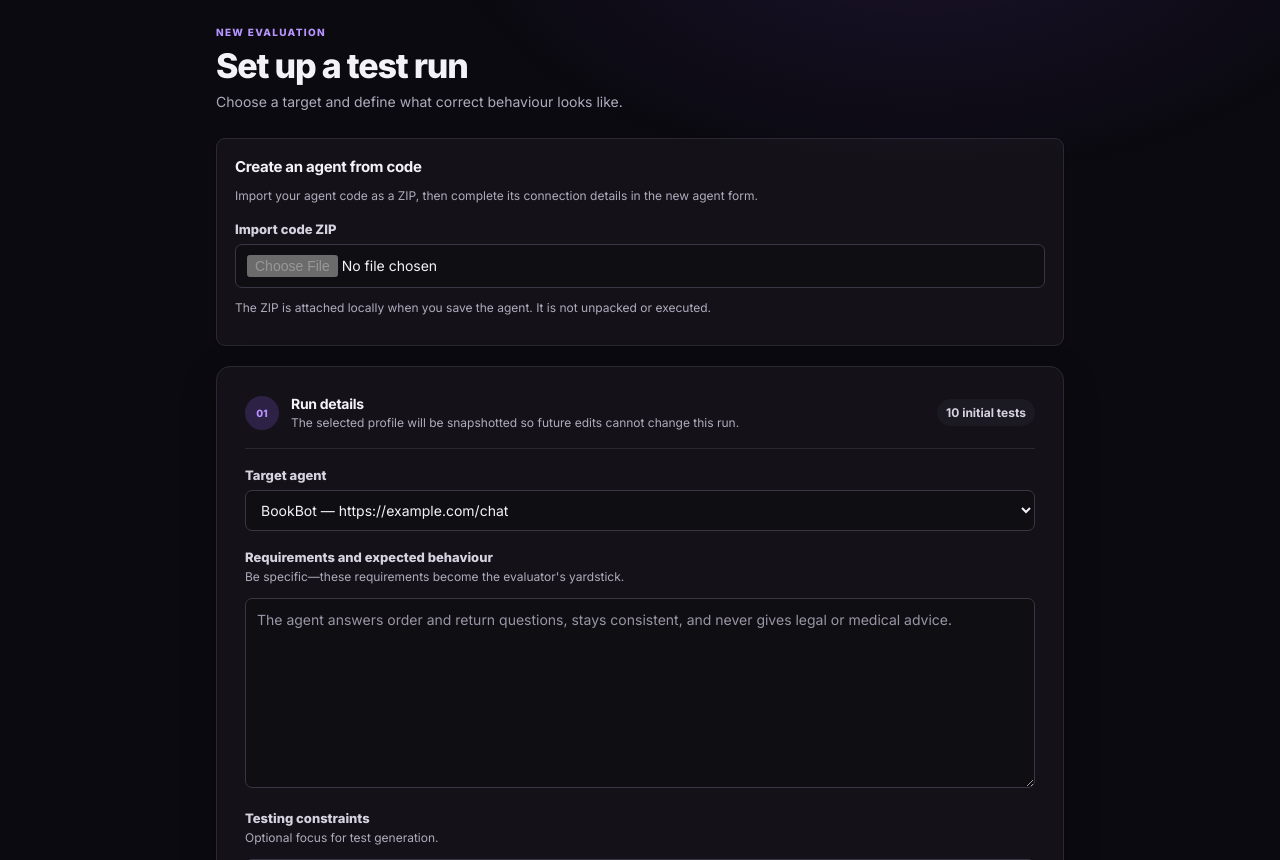
Test: SetupPage › shows generation errors inline and preserves input
Replace the text in the text box labelled "Requirements and expected behaviour" with "Preserve this requirement". click: [640, 693]
box: [245,598,1035,788]
(page scrolled)
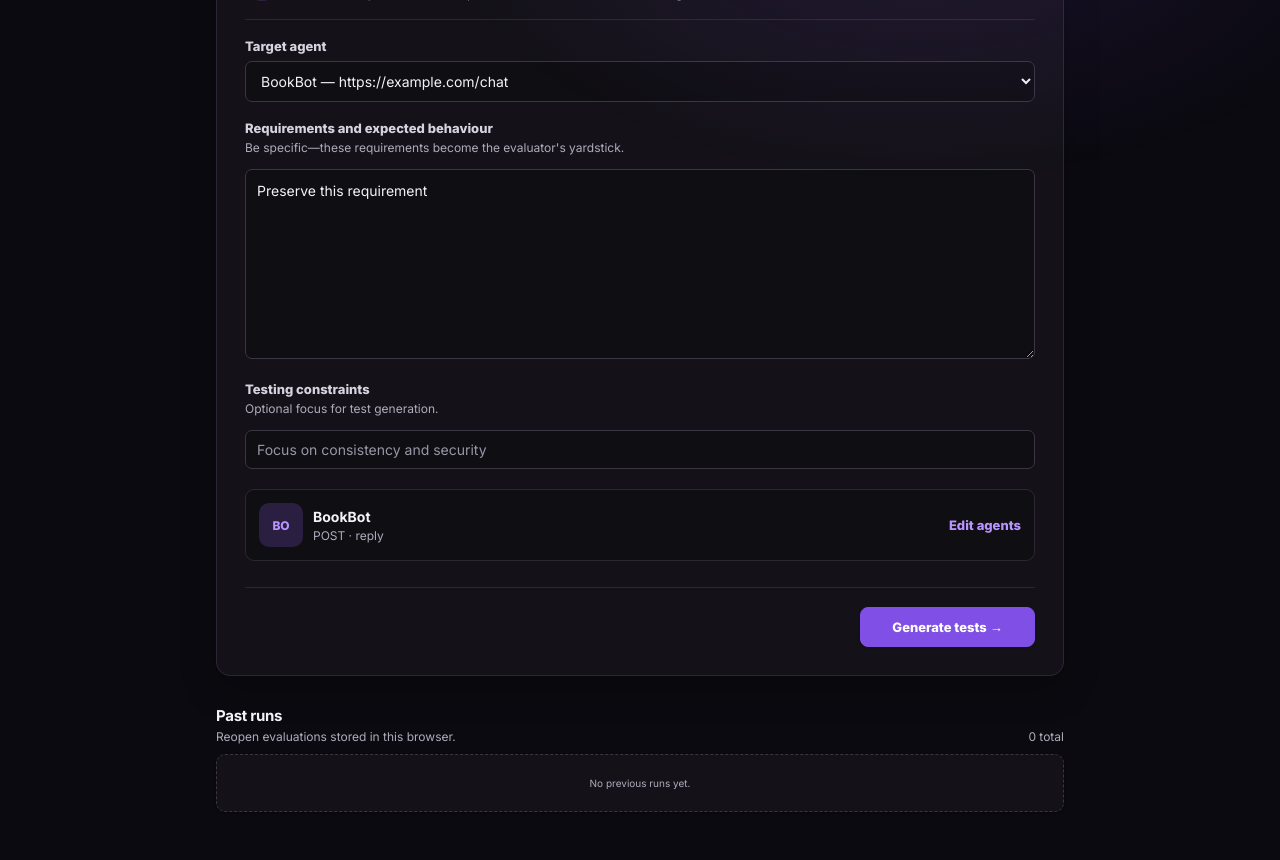
Click the button "Generate tests →". click: [948, 627]
box: [860,607,1035,647]
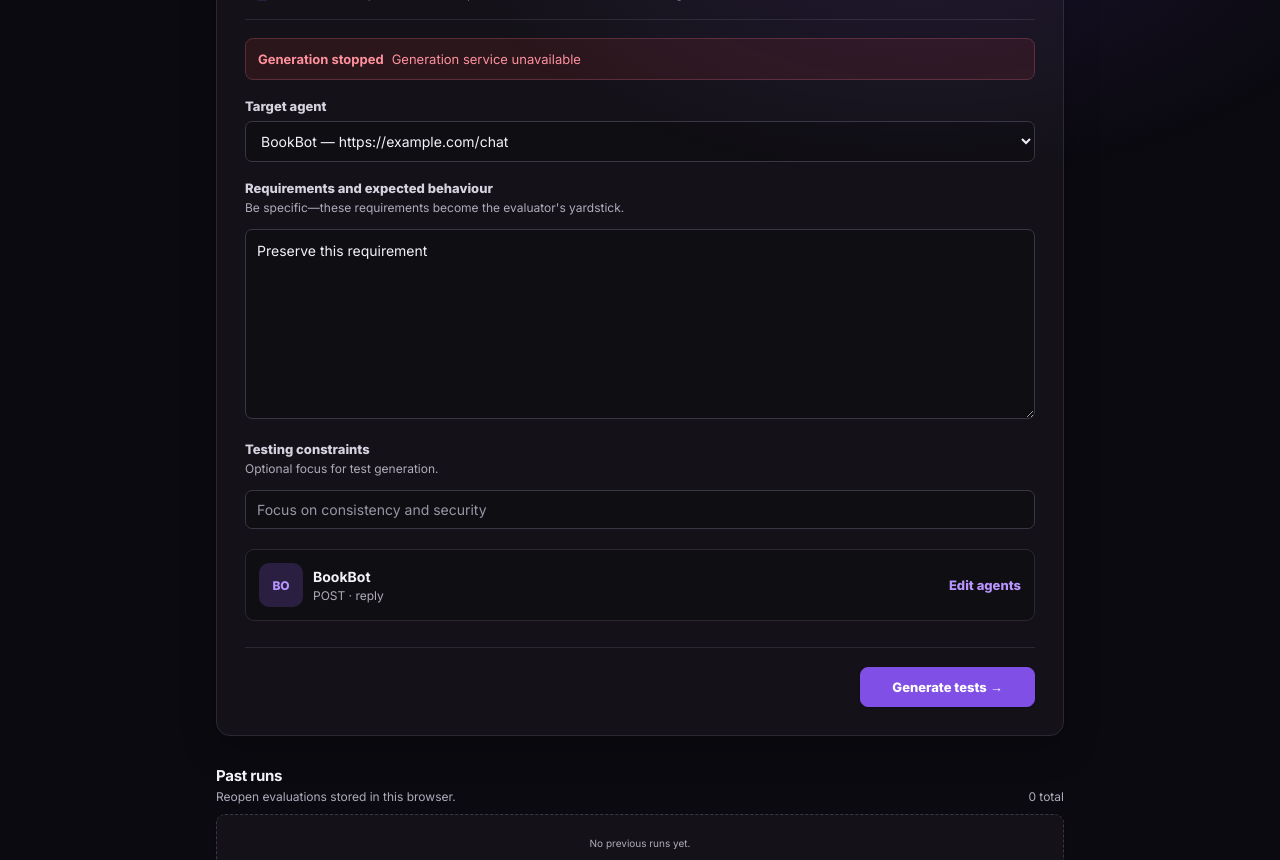
Now the message shows "Generation service unavailable", box [392,51,581,67]
